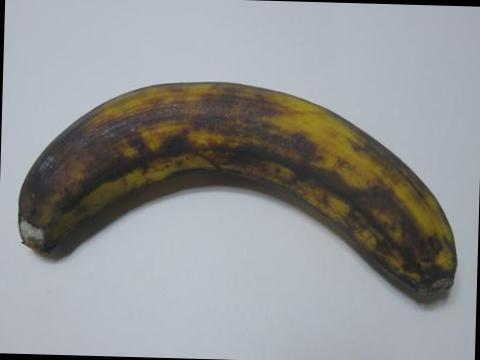overripe: (3, 59, 471, 317)
